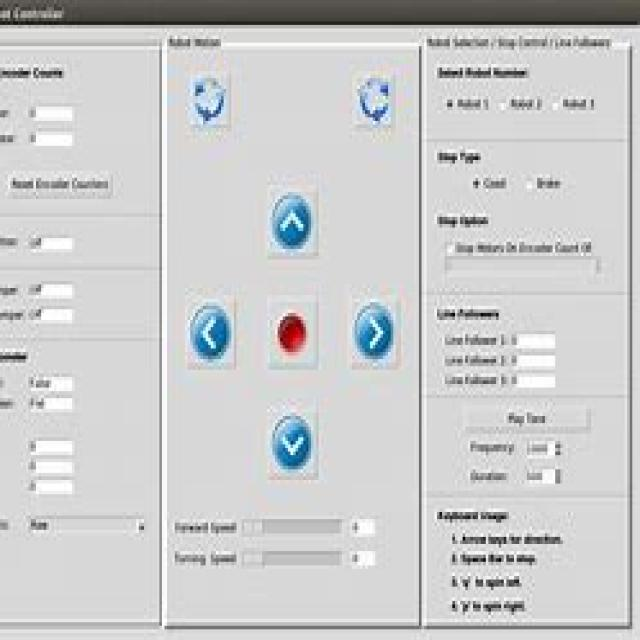button: (262, 398, 322, 484), (264, 180, 322, 262), (346, 290, 403, 372), (458, 400, 594, 433), (266, 292, 320, 368), (184, 294, 238, 369), (6, 167, 119, 202), (349, 69, 396, 132), (188, 69, 232, 129)
checkbox: (468, 173, 486, 193), (522, 173, 535, 195), (443, 94, 454, 115), (498, 95, 508, 116), (549, 96, 561, 113), (441, 241, 457, 253)
dropdownMenu: (24, 514, 154, 540)
input: (24, 473, 79, 497), (28, 229, 77, 254), (508, 368, 559, 392), (27, 433, 78, 457), (29, 276, 76, 302), (27, 125, 75, 150), (25, 370, 75, 393), (508, 348, 558, 370), (510, 328, 559, 350), (27, 100, 76, 122), (27, 393, 78, 414), (348, 535, 376, 572), (31, 304, 74, 328), (24, 456, 78, 474), (525, 459, 560, 486), (525, 435, 561, 459), (349, 512, 376, 536)
label: (425, 32, 614, 54), (448, 530, 576, 547), (434, 63, 534, 84), (458, 237, 593, 251), (448, 547, 542, 567), (447, 595, 531, 617), (171, 545, 239, 571), (448, 572, 528, 593), (431, 505, 516, 524), (431, 304, 507, 325), (163, 28, 224, 54), (432, 140, 487, 168), (169, 516, 239, 536), (432, 209, 495, 230), (440, 330, 506, 347), (440, 352, 507, 368), (466, 438, 516, 458), (441, 372, 507, 387), (465, 466, 510, 485), (510, 95, 543, 113), (457, 95, 491, 112), (563, 97, 596, 111), (537, 178, 566, 192), (489, 176, 509, 193)
slider: (441, 252, 610, 277), (239, 546, 345, 571), (240, 515, 344, 535)
